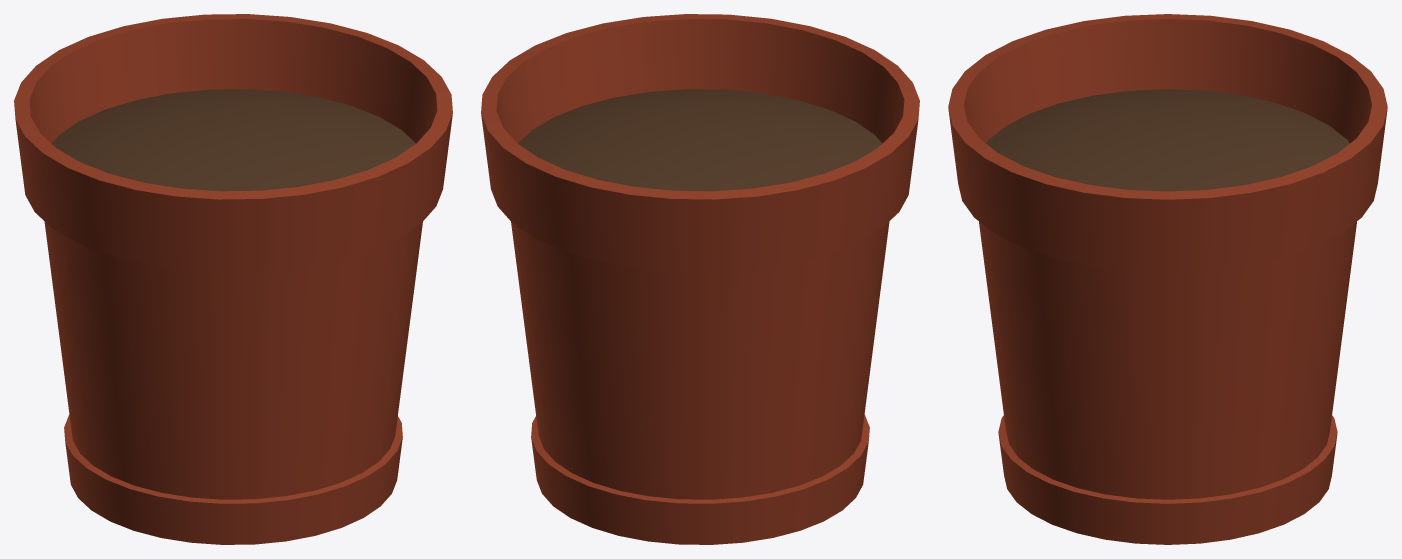
Rendered from Pot01.fbx.
The picture shows the model from 3 angles, left to right: view 1: azimuth 30°, elevation 25°; view 2: azimuth 150°, elevation 25°; view 3: azimuth 270°, elevation 25°; orthographic projection.
Visible parts, largest first — view 1: Cylinder; view 2: Cylinder; view 3: Cylinder.
Part boxes in pixels (bbox=[...]): Cylinder: bbox=[14, 14, 452, 544]; Cylinder: bbox=[481, 14, 919, 544]; Cylinder: bbox=[948, 14, 1387, 544].
Bounding box in the file's own units: 1.05 × 0.9746 × 1.05.
